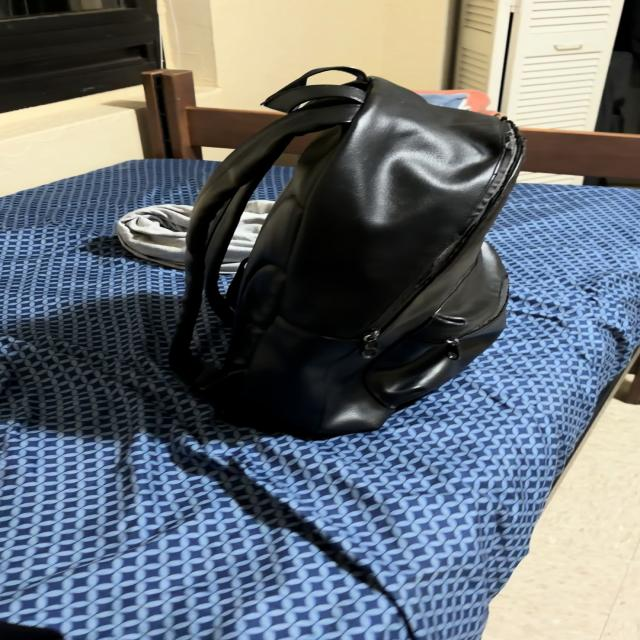backpack: (170, 67, 524, 438)
